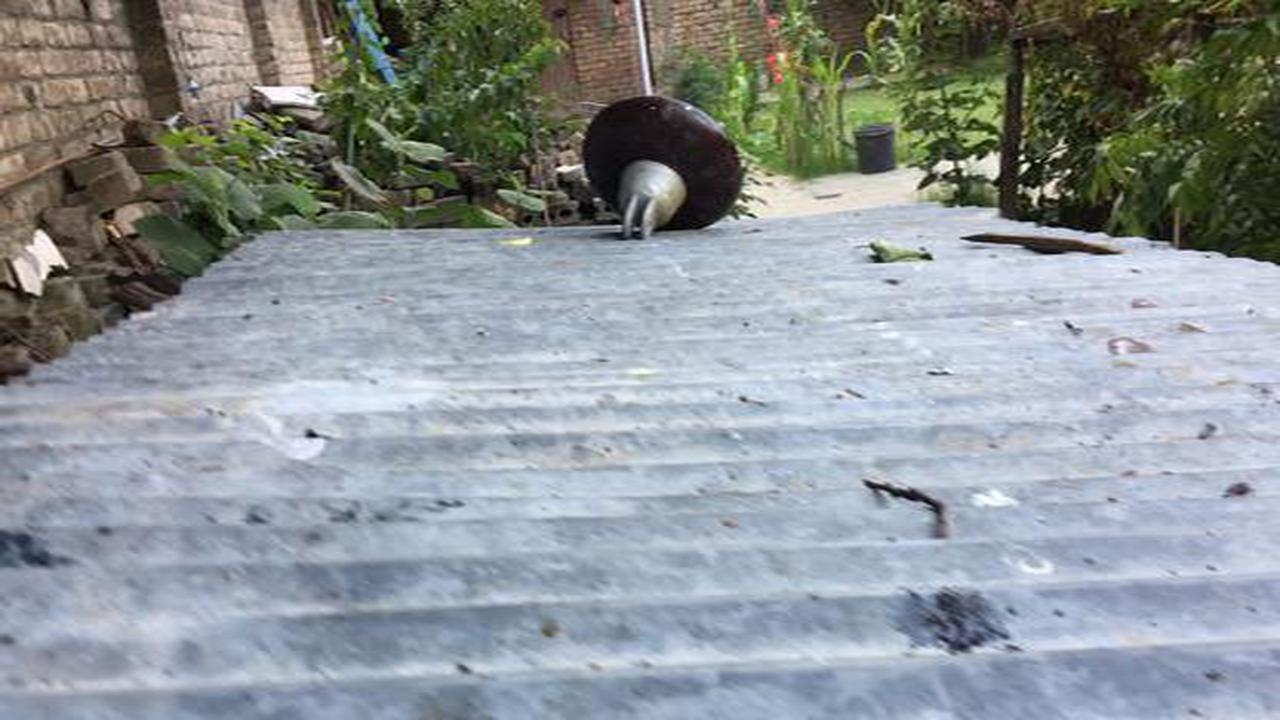insulator_disc: (578, 89, 750, 247)
